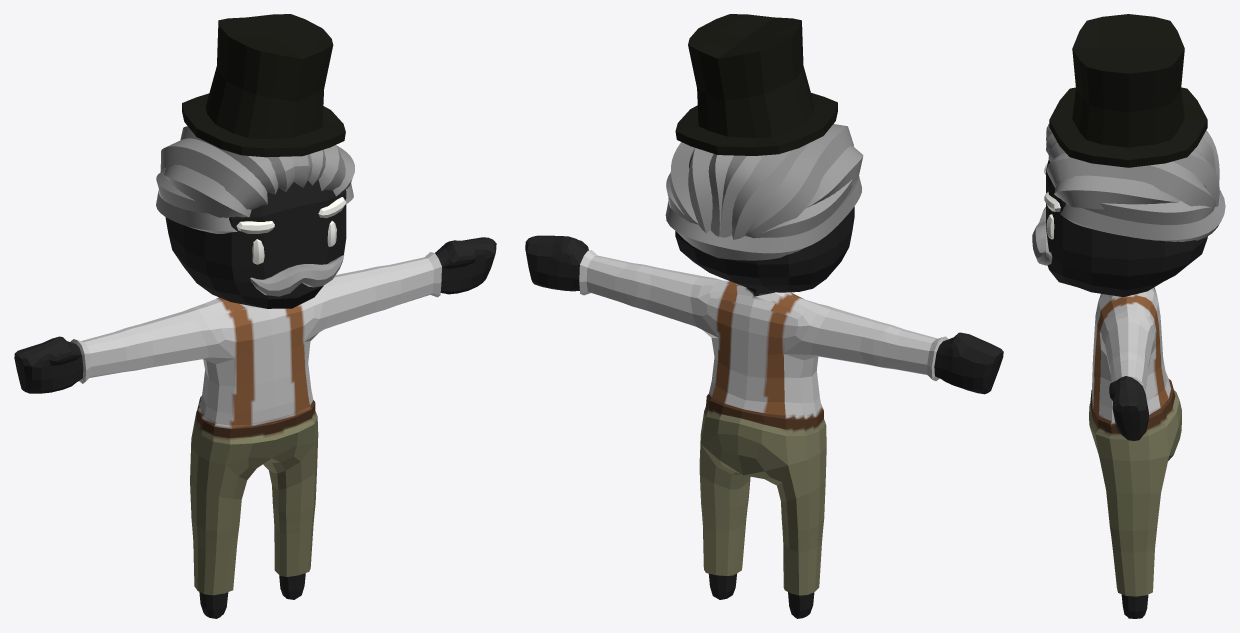
The model's file is OldClassy_Male.fbx.
3 renders of one model, left to right at view 1: azimuth 30°, elevation 25°; view 2: azimuth 150°, elevation 25°; view 3: azimuth 270°, elevation 25°, orthographic.
Visible parts, largest first — view 1: Body; view 2: Body; view 3: Body.
Boxes of the visible parts, left/top/right/bottom form: Body: left=14, top=14, right=496, bottom=618; Body: left=525, top=14, right=1003, bottom=618; Body: left=1032, top=14, right=1225, bottom=618.
Size of the model in its own units: 324 by 377 by 115.
1 material, 1 textured.
